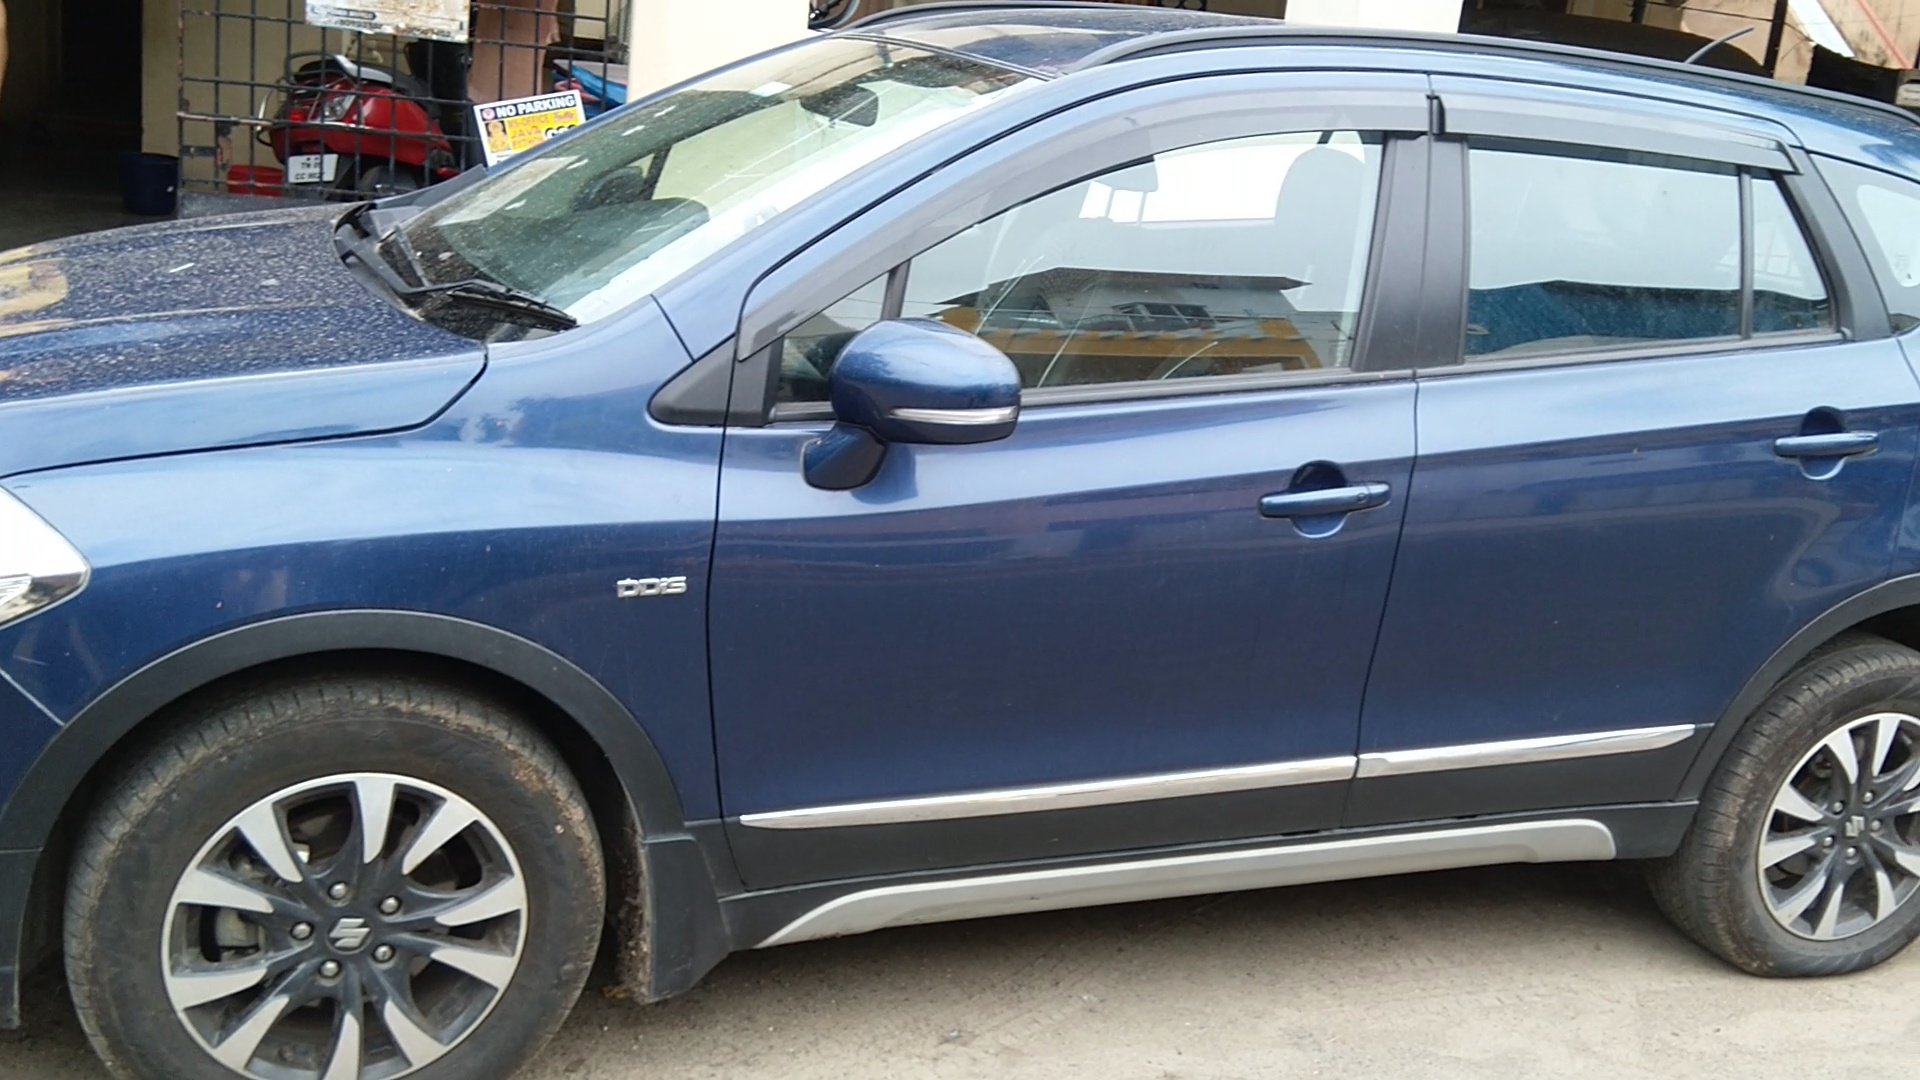alloy_wheel: (76, 680, 629, 1080), (1720, 637, 1920, 1000)
ovr_mirror: (803, 302, 1026, 493)
